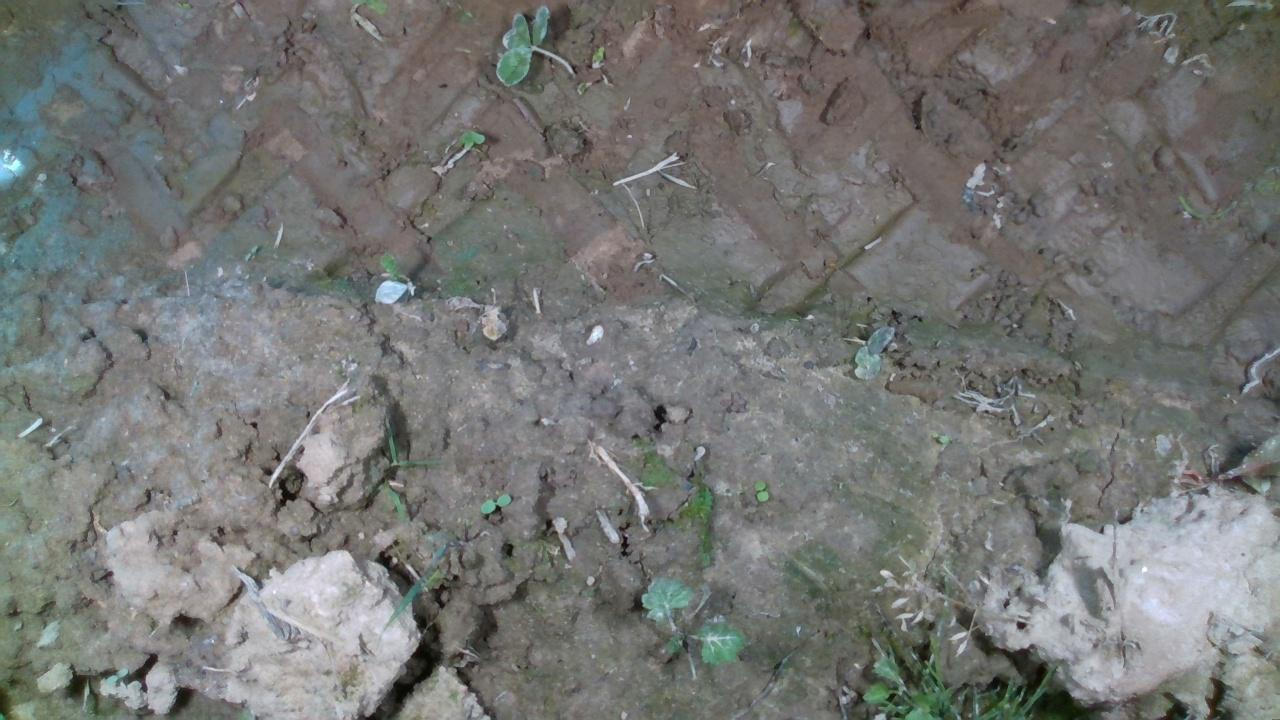weed: (751, 478, 769, 502)
